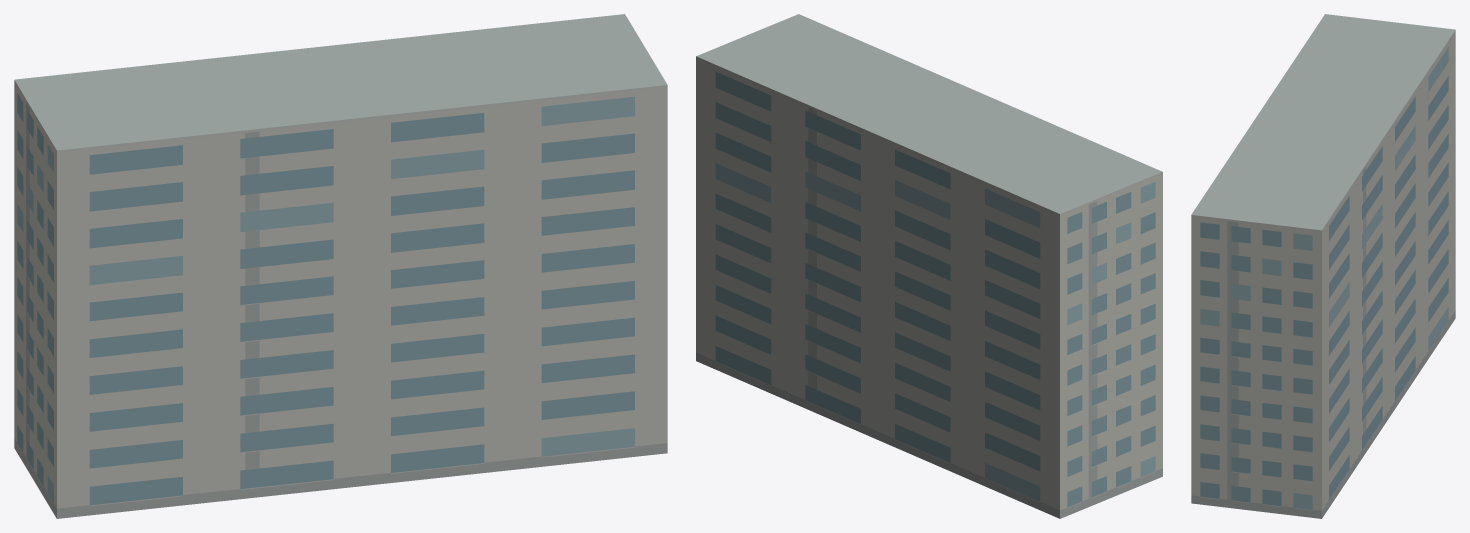
Rendered from residential-cba1d265-cf8e-485d-9219-fa571b694201.glb.
The picture shows the model from 3 angles, left to right: view 1: azimuth 30°, elevation 25°; view 2: azimuth 150°, elevation 25°; view 3: azimuth 270°, elevation 25°; orthographic projection. The views are drawn at different scales.
Visible parts, largest first — view 1: residential-cba1d265-cf8e-485d-9219-fa571b694201.tmp; view 2: residential-cba1d265-cf8e-485d-9219-fa571b694201.tmp; view 3: residential-cba1d265-cf8e-485d-9219-fa571b694201.tmp.
Boxes of the visible parts, <box> form: residential-cba1d265-cf8e-485d-9219-fa571b694201.tmp: <box>14,14,667,518</box>; residential-cba1d265-cf8e-485d-9219-fa571b694201.tmp: <box>696,14,1162,518</box>; residential-cba1d265-cf8e-485d-9219-fa571b694201.tmp: <box>1191,14,1455,518</box>.
Bounding box in the file's own units: 53.08 × 33 × 27.43.
